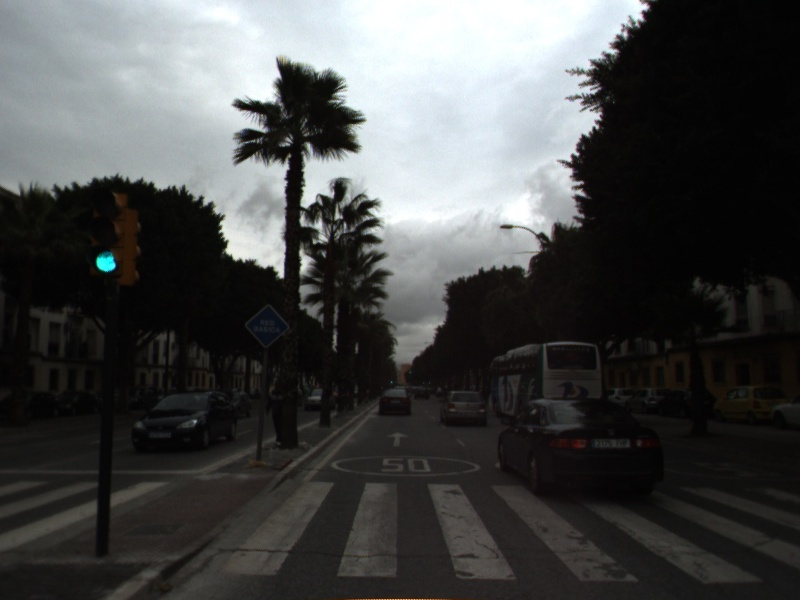STRAIGHT: (385, 429, 412, 449)
